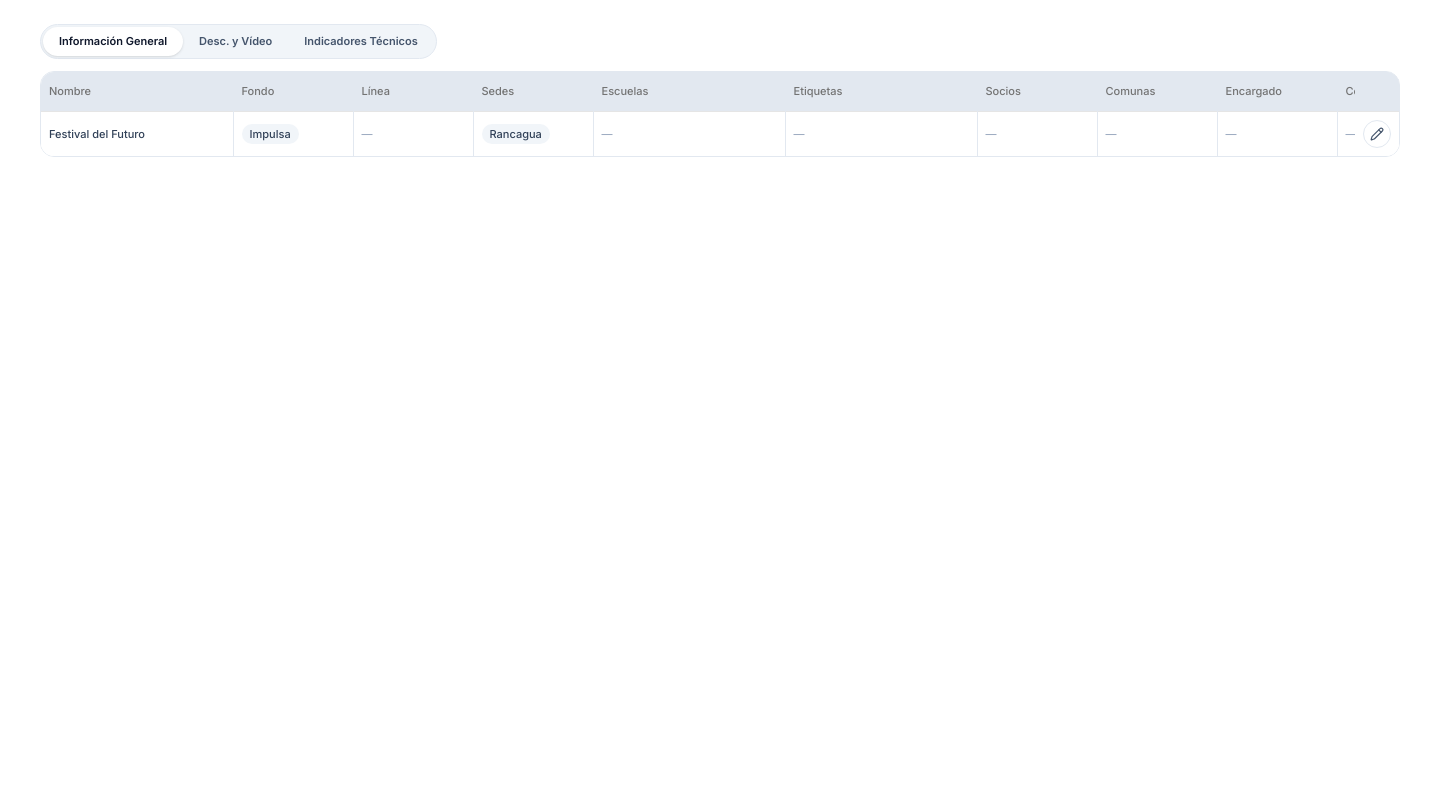
Test case: VitrinaProjectsTable › si el servidor falla revierte el upsert optimista
The image size is (1440, 810).
Step 1. Click the button named "Editar Festival del Futuro" → [1376, 134], box [1362,120,1390,148]
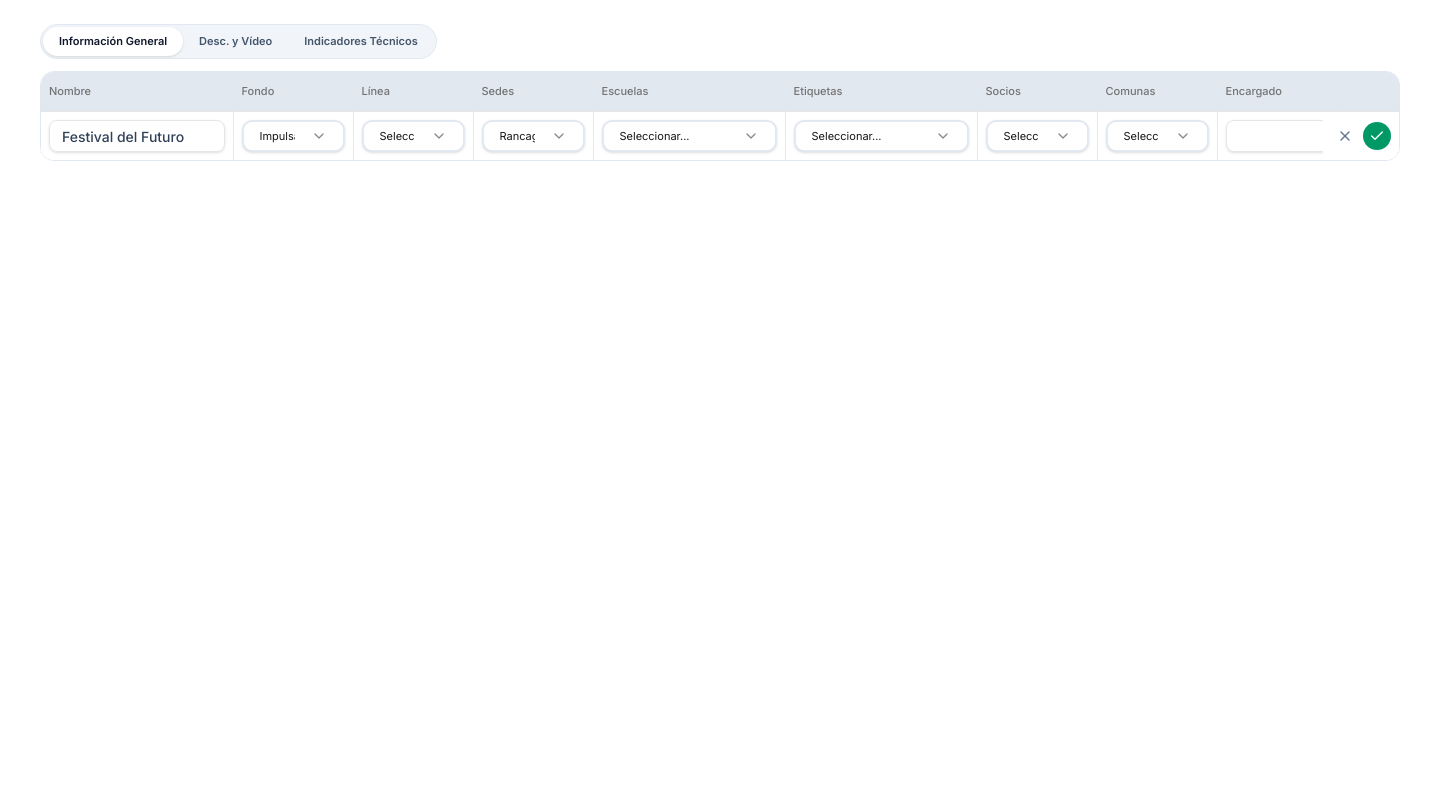
Step 2. Replace the text in the 1st field showing "Festival del Futuro" with "Nombre Roto" → [137, 136], box [49,120,224,152]
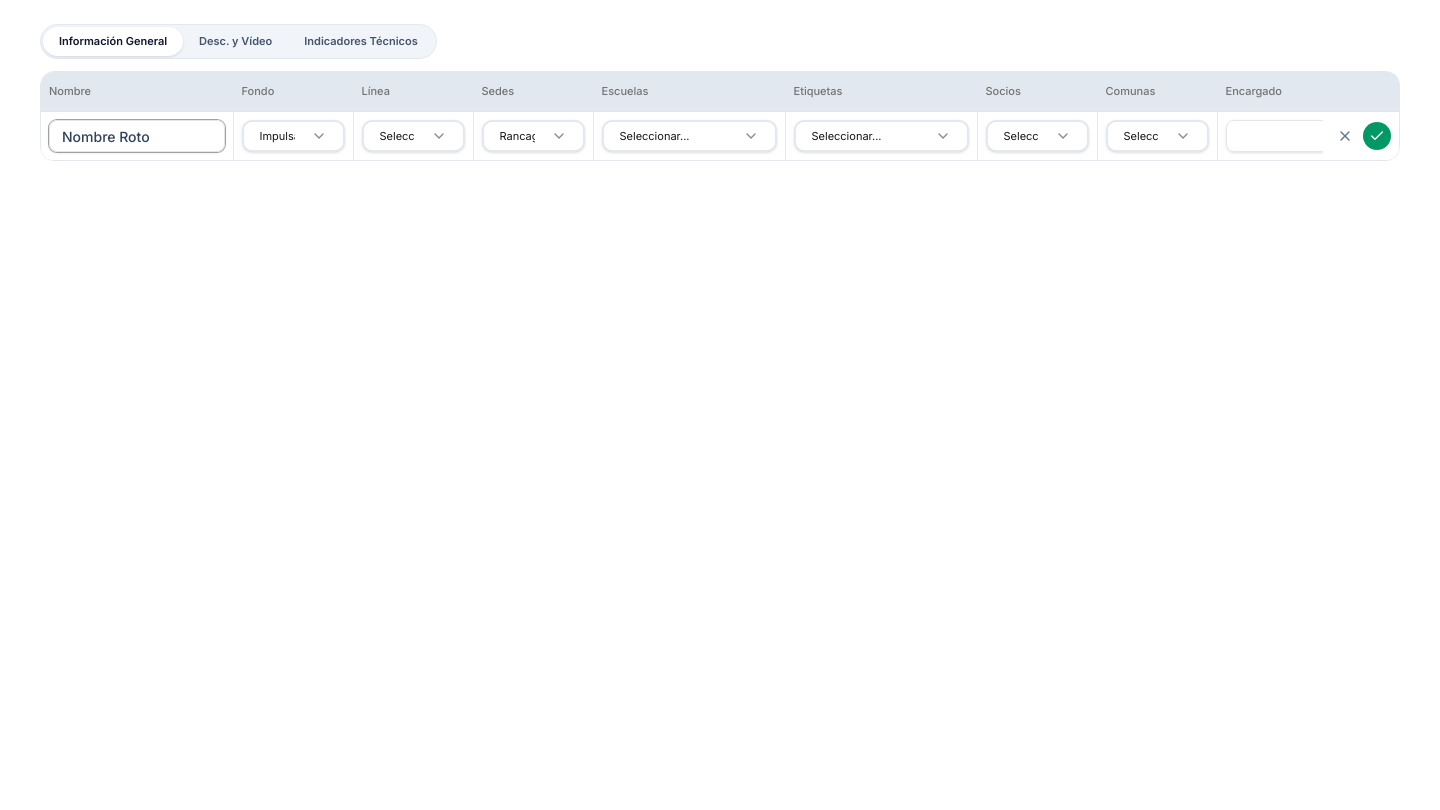
Step 3. Click the button named "Guardar fila" → [1376, 136], box [1362,122,1390,150]
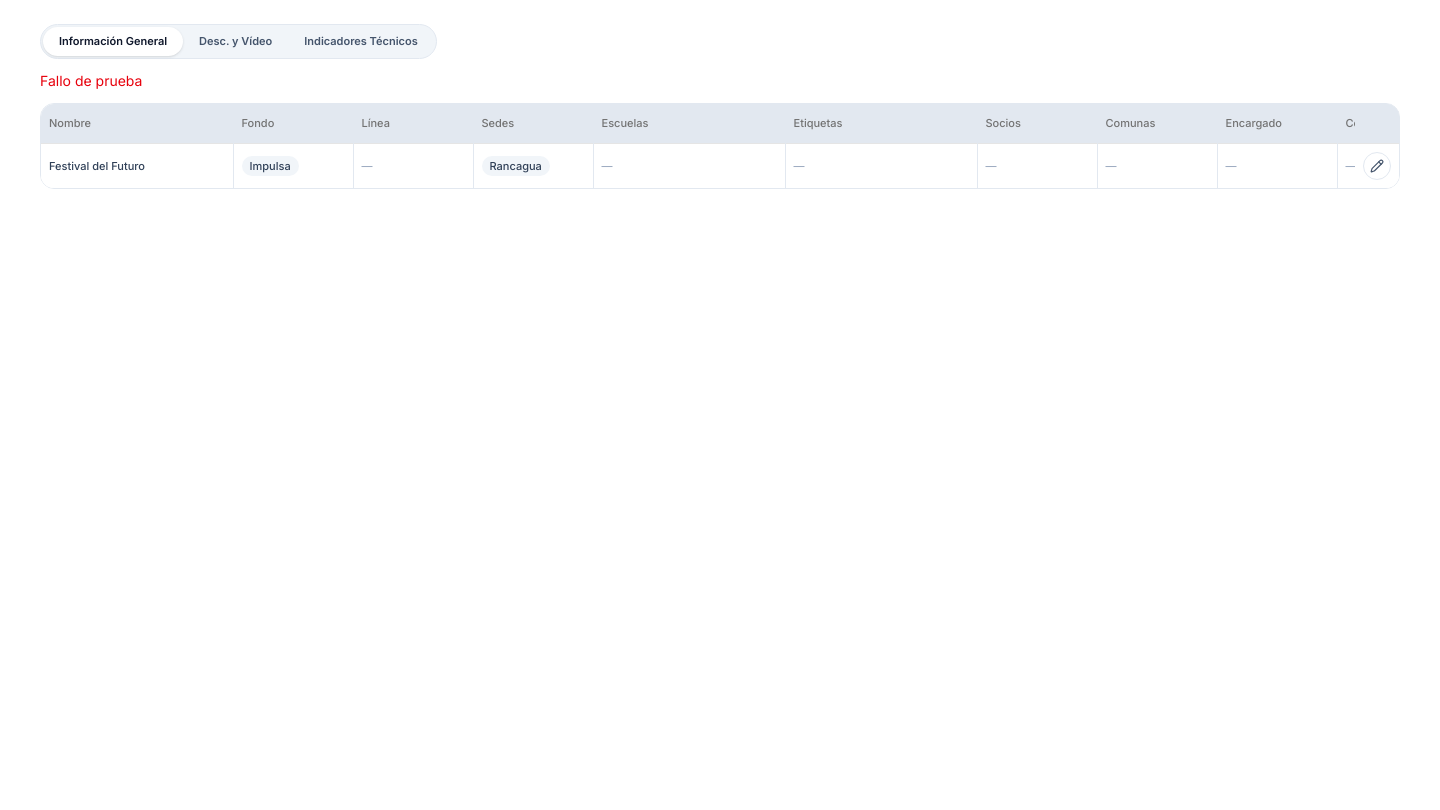
Expected: the text "Fallo de prueba" is shown, [40,72,142,88]
